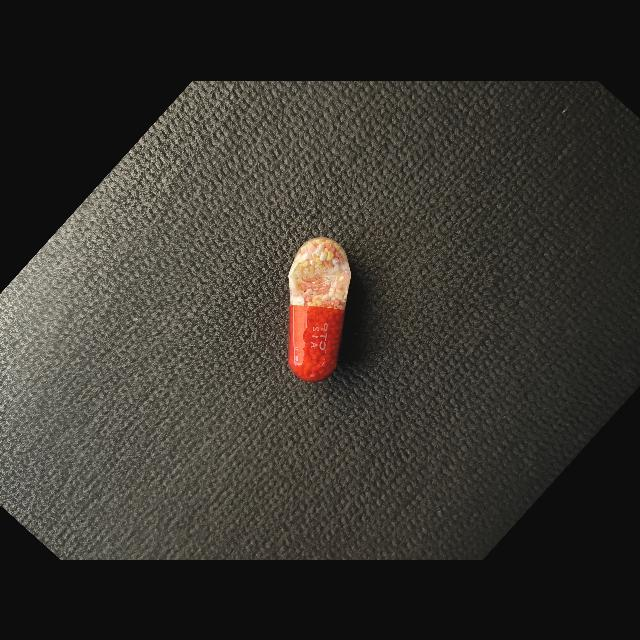Defective Capsule: (288, 236, 351, 381)
